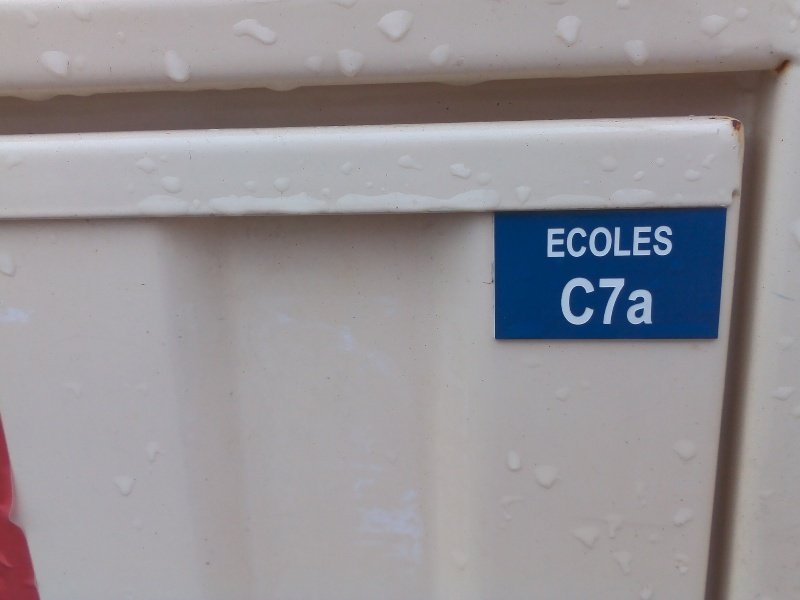text: (561, 276, 576, 326), (577, 276, 592, 326), (593, 276, 608, 326), (609, 276, 624, 326), (625, 276, 640, 326), (641, 276, 654, 326), (561, 226, 576, 258), (577, 226, 592, 258), (593, 226, 608, 258), (609, 226, 624, 258), (625, 226, 640, 258), (641, 226, 656, 258), (657, 226, 672, 258), (546, 226, 560, 258), (673, 226, 676, 258)
